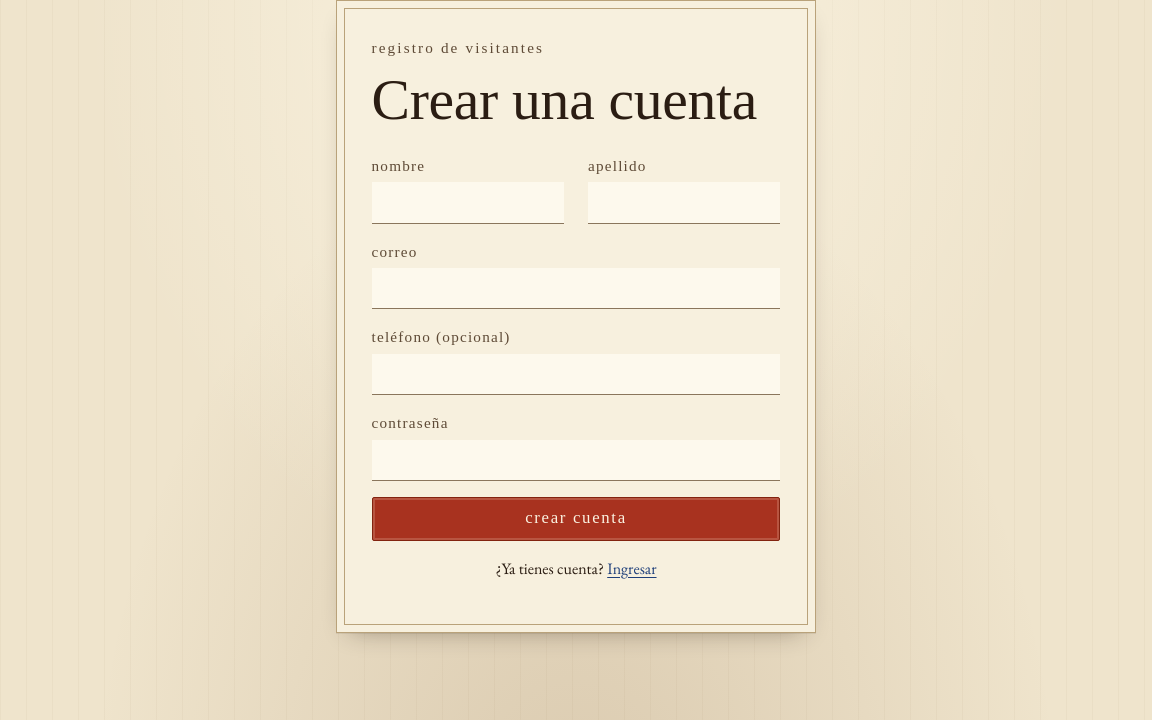
it: register › shows the server's generic answer and does not sign in
Type "Ana" into the field labelled "Nombre" at (468, 203), box [372, 182, 564, 224]
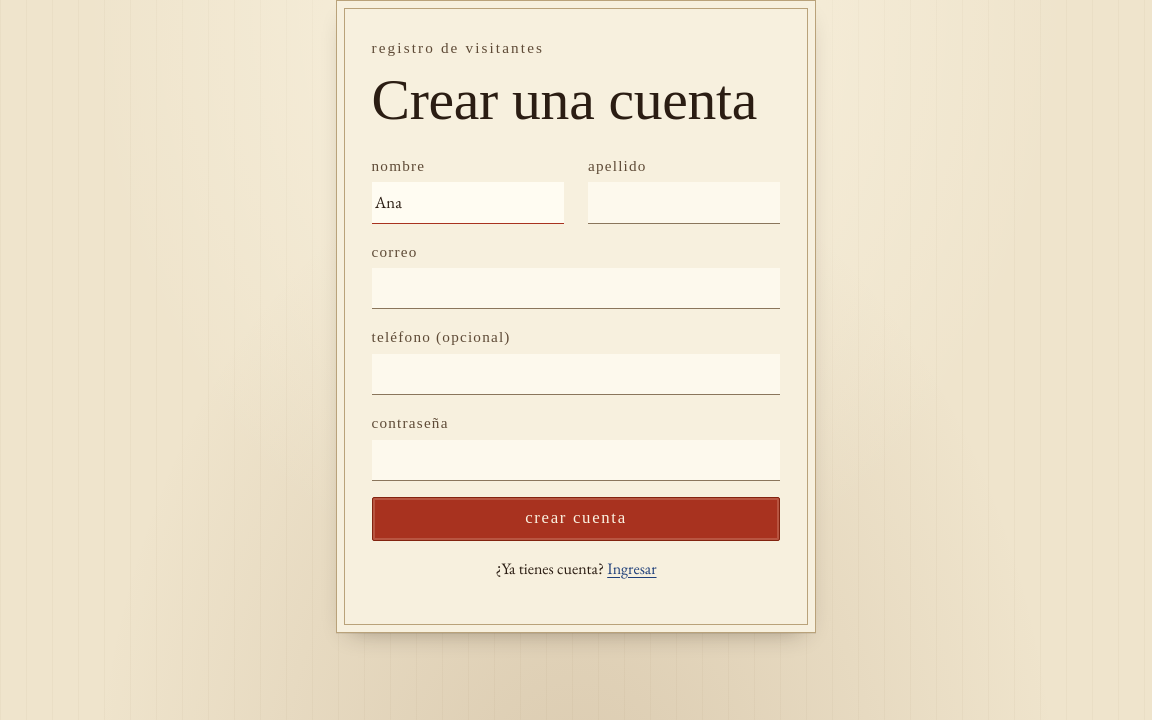
Type "Ruiz" into the field labelled "Apellido" at (684, 203), box [588, 182, 780, 224]
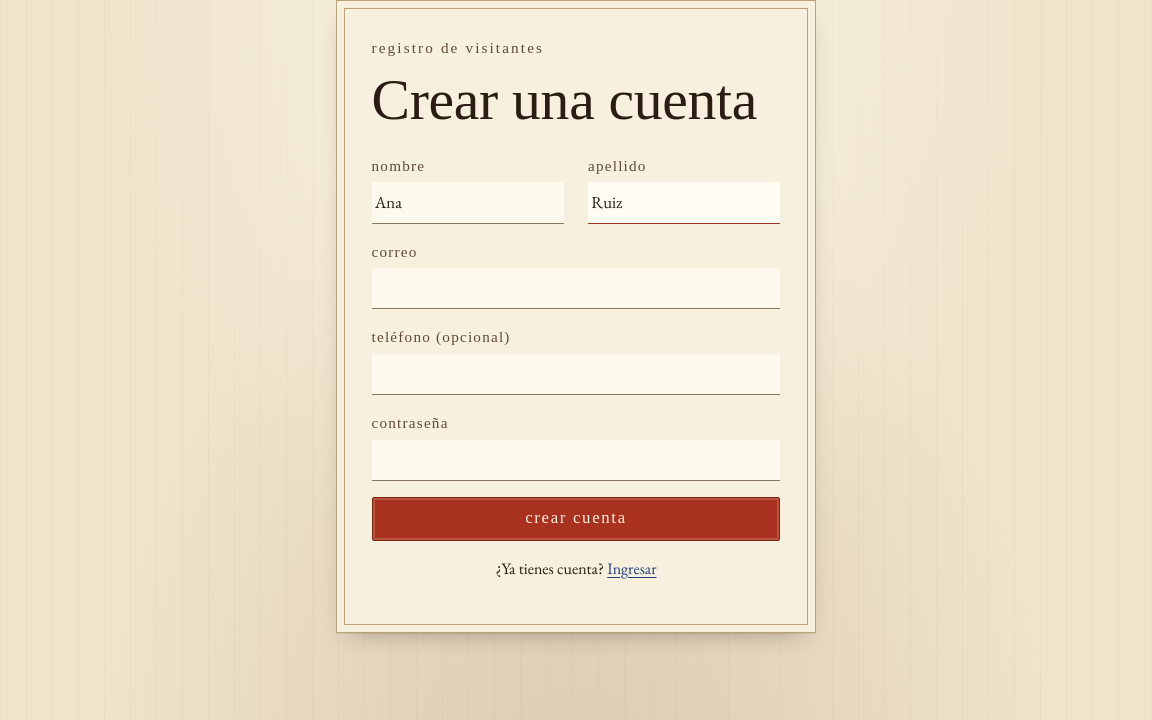
Type "ana@example.test" into the field labelled "Correo" at (576, 289), box [372, 268, 780, 309]
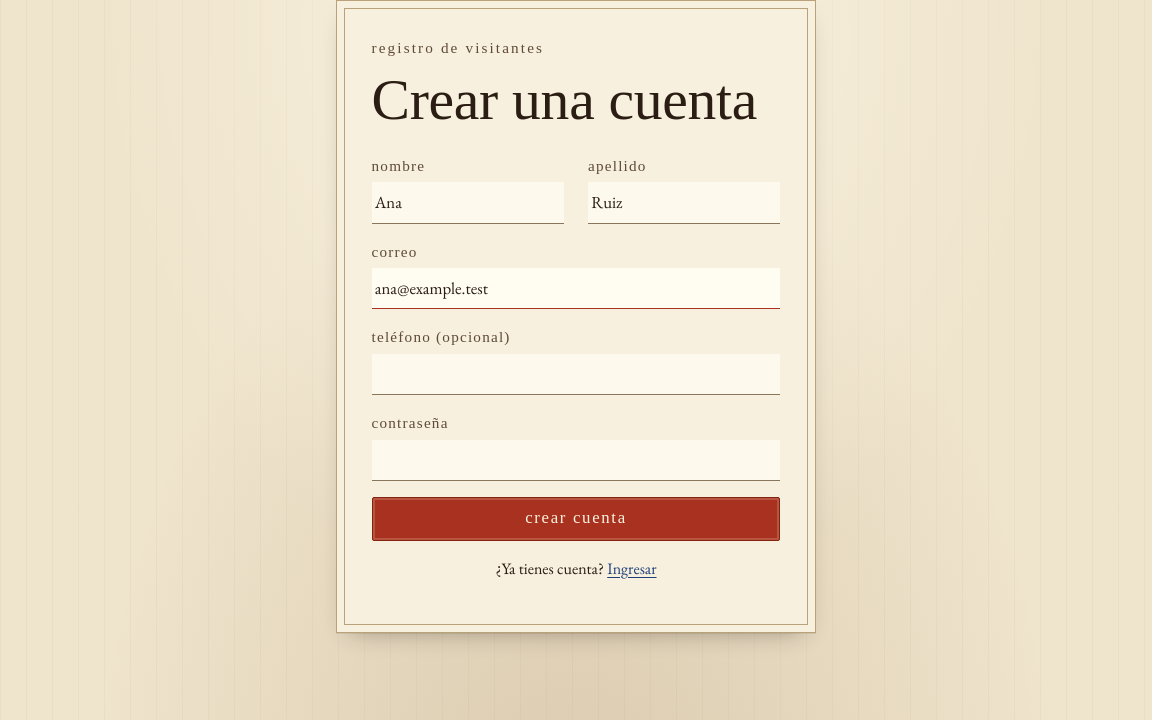
Type "Jardin-de-invierno-7" into the password field labelled "Contraseña" at (576, 460), box [372, 440, 780, 481]
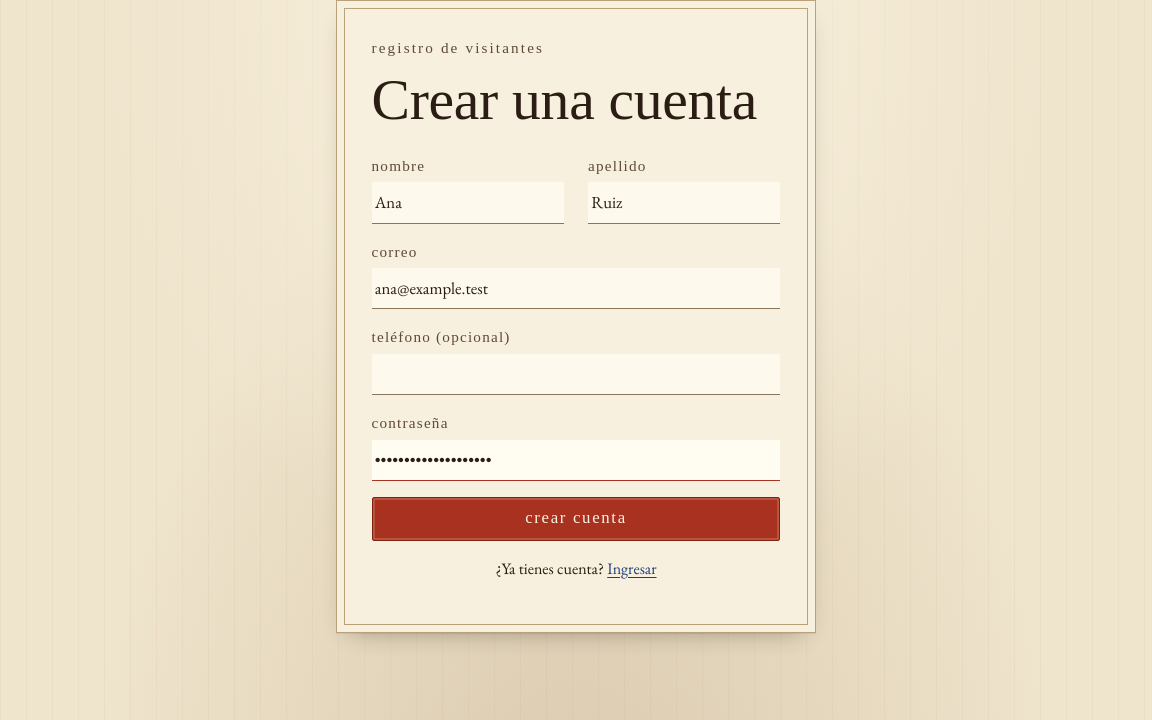
Click the button "Crear cuenta" at (576, 519), box [372, 497, 780, 541]
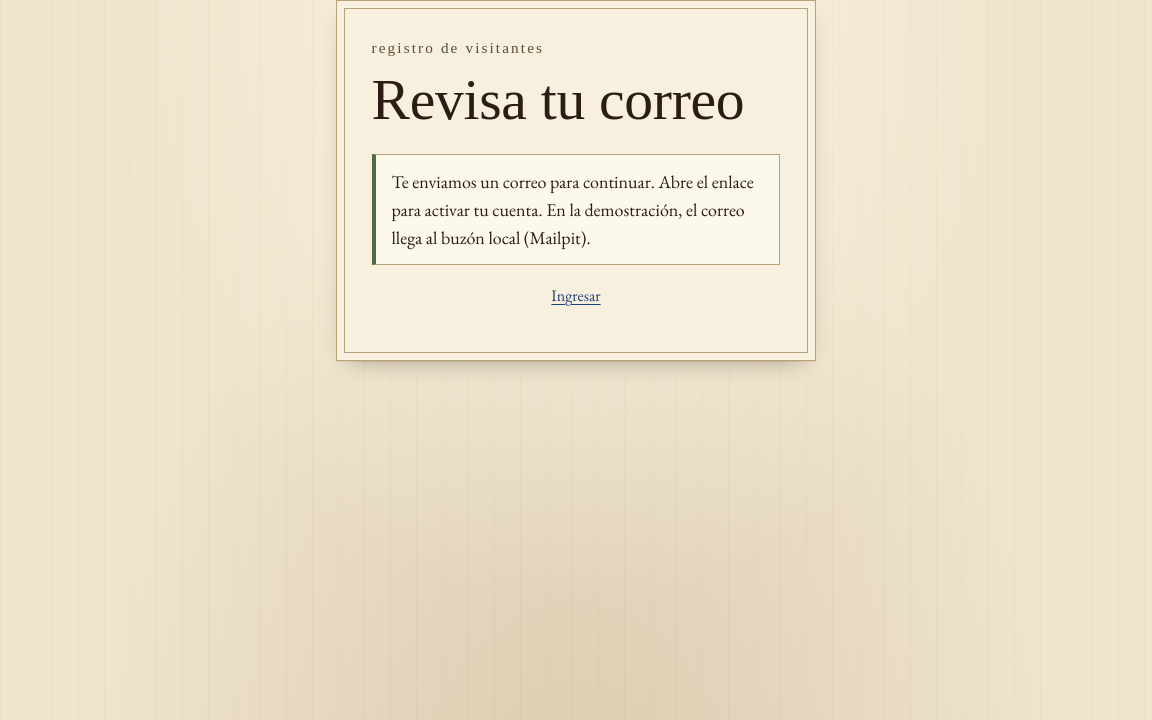
Expected: the message shows "Te enviamos un correo para continuar. Abre el enlace para activar tu cuenta.", [392, 170, 754, 221]
Expected: the heading "Revisa tu correo" is shown, [372, 69, 780, 131]
